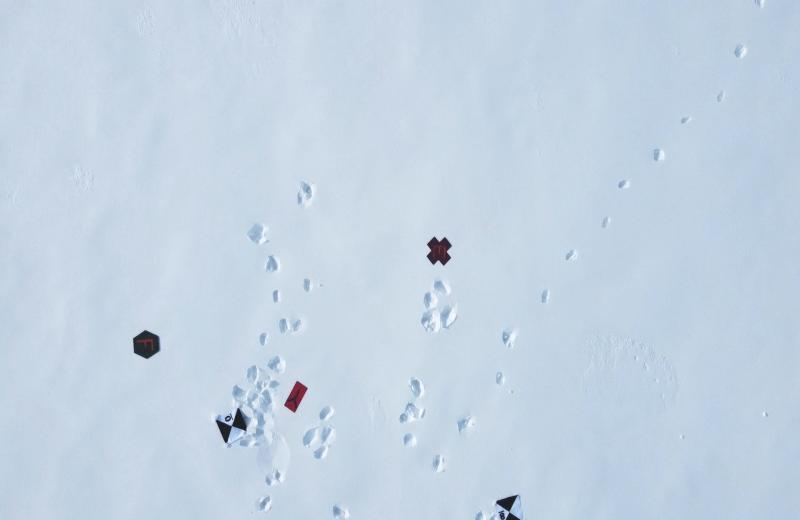Cross: (424, 236, 452, 265)
Hexagon: (133, 331, 161, 359)
Rectangle: (284, 379, 307, 415)
